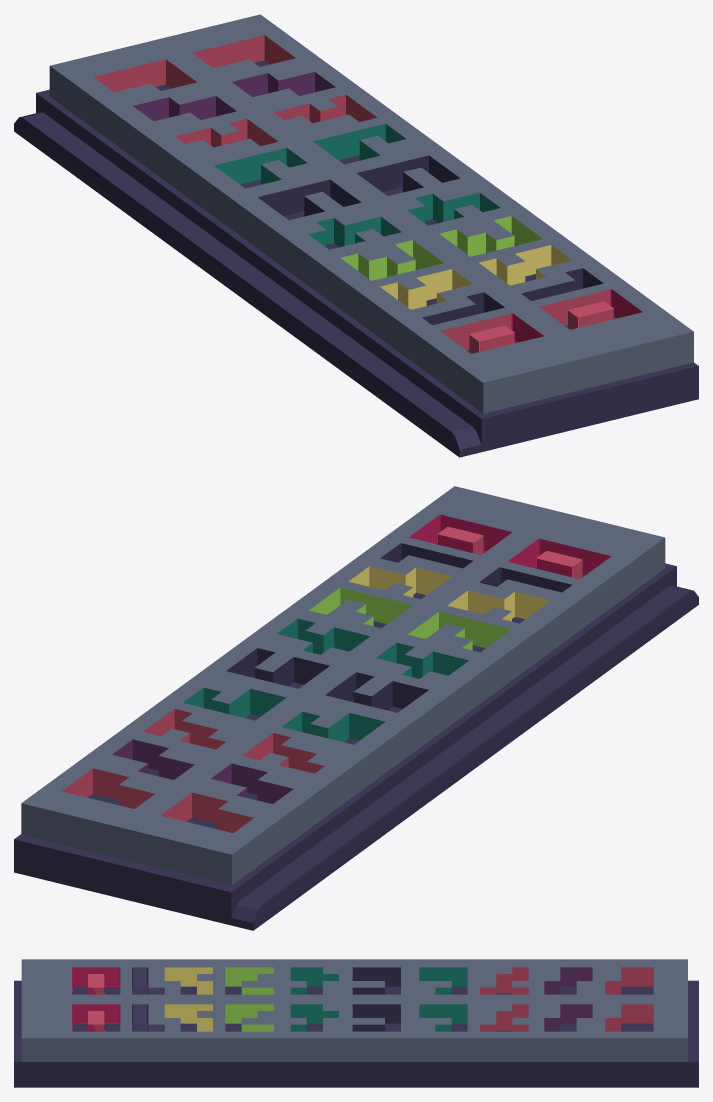
3 views of the same model, one above another, from view 1: azimuth 30°, elevation 25°; view 2: azimuth 150°, elevation 25°; view 3: azimuth 270°, elevation 25° (orthographic). The views are drawn at different scales.
Parts seen in each view (by area): view 1: Cube, Cube.003, Cube.001; view 2: Cube, Cube.003, Cube.001; view 3: Cube.003, Cube, Cube.001.
Boxes of the visible parts, x1,y1,x2,y2 form: Cube: (49, 38, 594, 413); Cube.003: (150, 14, 693, 389); Cube.001: (14, 89, 698, 457); Cube: (120, 510, 665, 885); Cube.003: (21, 486, 565, 860); Cube.001: (14, 563, 698, 930); Cube.003: (21, 996, 687, 1061); Cube: (21, 959, 687, 1001); Cube.001: (14, 980, 698, 1087).
Bounding box in the file's own units: 26.31 × 6.71 × 84.82.
2 materials, 2 textured.
